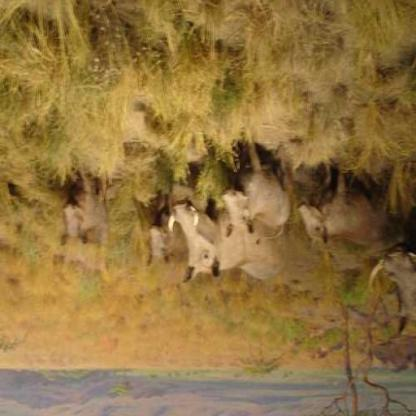boar: (156, 212, 337, 288), (297, 167, 392, 258), (213, 158, 283, 252), (54, 172, 116, 272), (380, 219, 415, 337), (135, 216, 176, 274)
